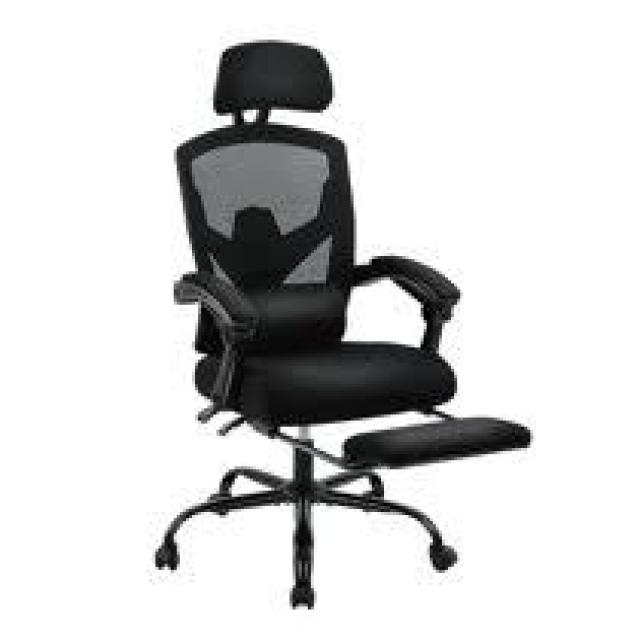chair: (134, 18, 585, 640)
